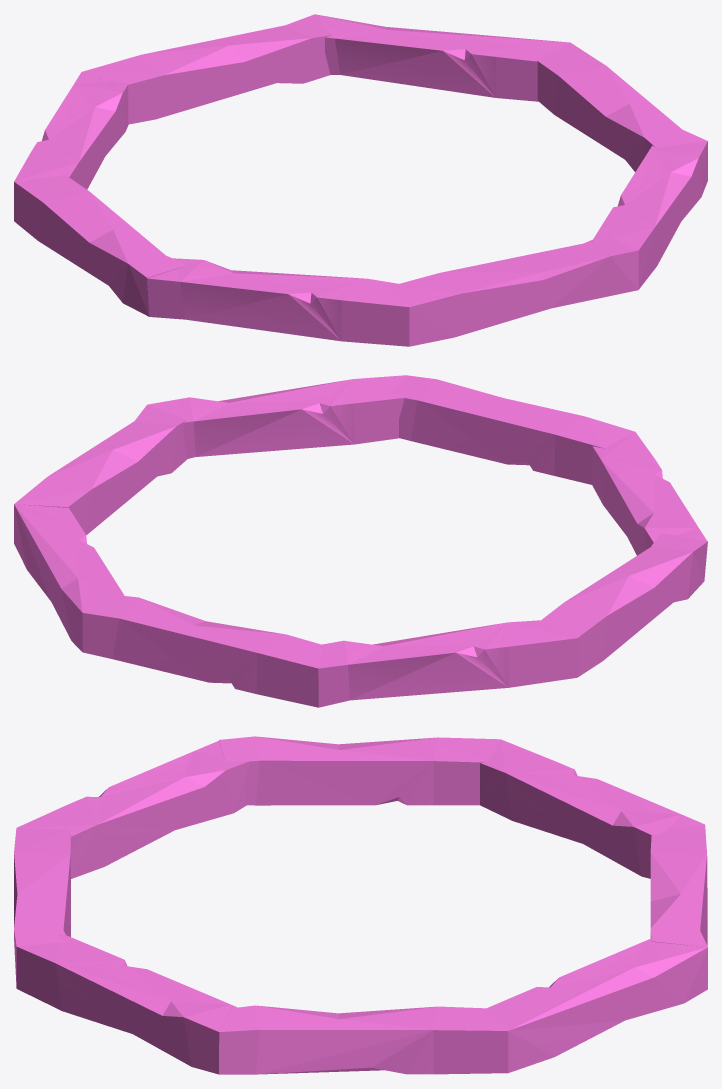
Rendered from SM_Tower_Round_3m_Trim_Wood_Fantasy.fbx.
3 views of the same model, one above another, from view 1: azimuth 30°, elevation 25°; view 2: azimuth 150°, elevation 25°; view 3: azimuth 270°, elevation 25° (orthographic). The views are drawn at different scales.
Visible parts, largest first — view 1: SM_Tower_Round_3m_Trim_Wood_Fantasy; view 2: SM_Tower_Round_3m_Trim_Wood_Fantasy; view 3: SM_Tower_Round_3m_Trim_Wood_Fantasy.
Boxes of the visible parts, box(x1,y1,x2,y2) form: SM_Tower_Round_3m_Trim_Wood_Fantasy: box(14, 14, 707, 346); SM_Tower_Round_3m_Trim_Wood_Fantasy: box(14, 375, 707, 707); SM_Tower_Round_3m_Trim_Wood_Fantasy: box(14, 736, 707, 1074).
Size of the model in its own units: 3.1 by 0.2358 by 3.1.
